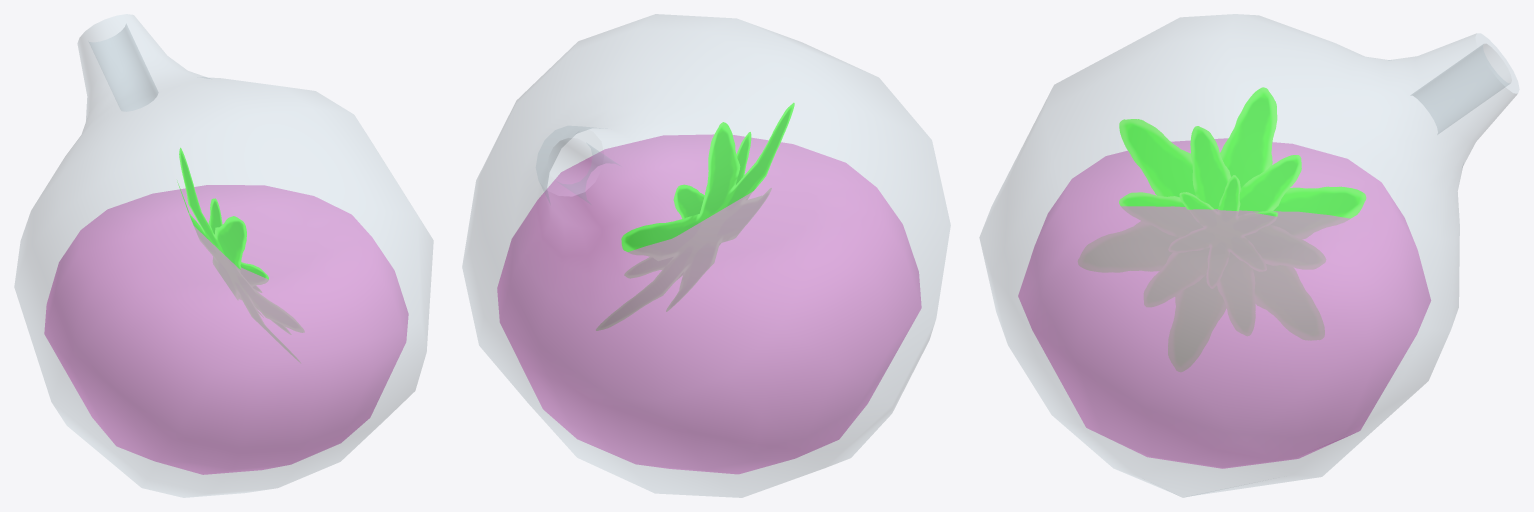
File: Seerosensaft_bottle.glb
The picture shows the model from 3 angles, left to right: view 1: azimuth 30°, elevation 25°; view 2: azimuth 150°, elevation 25°; view 3: azimuth 270°, elevation 25°; orthographic projection. The views are drawn at different scales.
Parts seen in each view (by area): view 1: SeeRosensaft, Plane.001, Plane.002; view 2: SeeRosensaft, Plane.001, Plane.002; view 3: SeeRosensaft, Plane.001, Plane.002, Plane.003.
Part boxes in pixels (x1,y1,x2,y2): SeeRosensaft: [14, 14, 433, 497]; Plane.001: [177, 147, 304, 361]; Plane.002: [208, 198, 290, 334]; SeeRosensaft: [462, 14, 950, 497]; Plane.001: [596, 102, 794, 330]; Plane.002: [625, 132, 751, 279]; SeeRosensaft: [979, 14, 1519, 497]; Plane.001: [1078, 87, 1366, 371]; Plane.002: [1119, 126, 1325, 335]; Plane.003: [1169, 175, 1277, 288].
Bounding box in the file's own units: 0.2146 × 0.221 × 0.2469.
3 materials, 3 textured.
